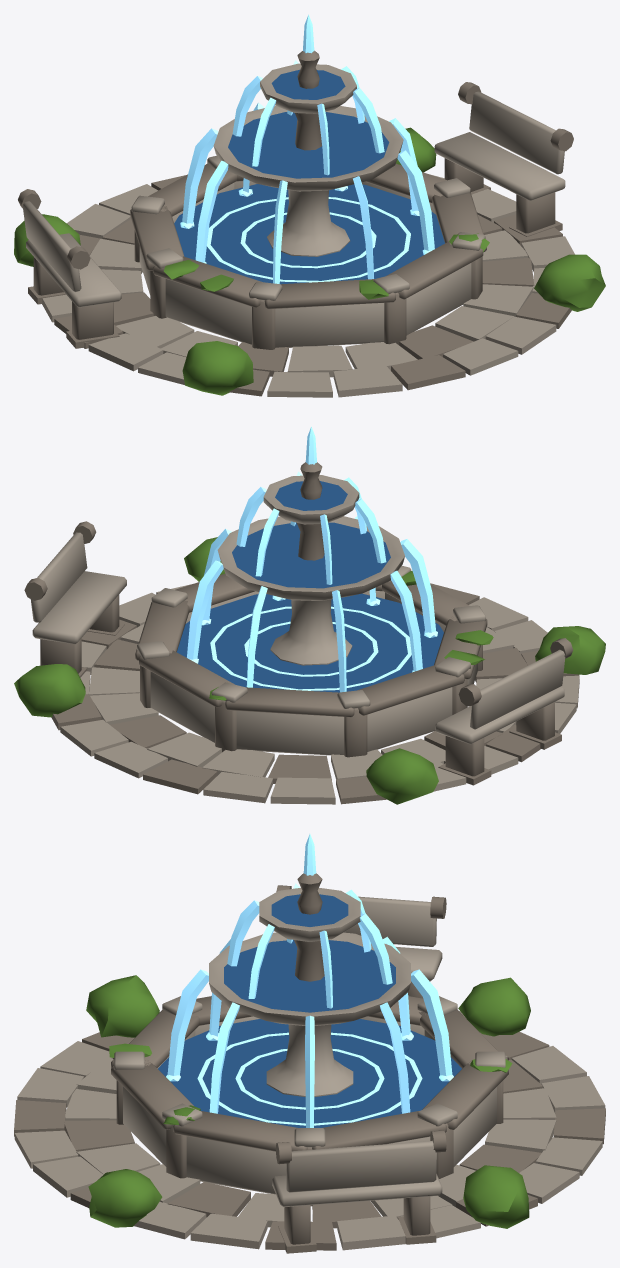
The model's file is stone_bench_fountain.glb.
3 views of the same model, one above another, from view 1: azimuth 30°, elevation 25°; view 2: azimuth 150°, elevation 25°; view 3: azimuth 270°, elevation 25° (orthographic). The views are drawn at different scales.
Visible parts, largest first — view 1: stone_bench_fountain; view 2: stone_bench_fountain; view 3: stone_bench_fountain.
Boxes of the visible parts, bbox=[...] form: stone_bench_fountain: bbox=[14, 14, 605, 397]; stone_bench_fountain: bbox=[14, 426, 605, 804]; stone_bench_fountain: bbox=[14, 834, 605, 1253].
Bounding box in the file's own units: 5 × 2.61 × 4.68.
